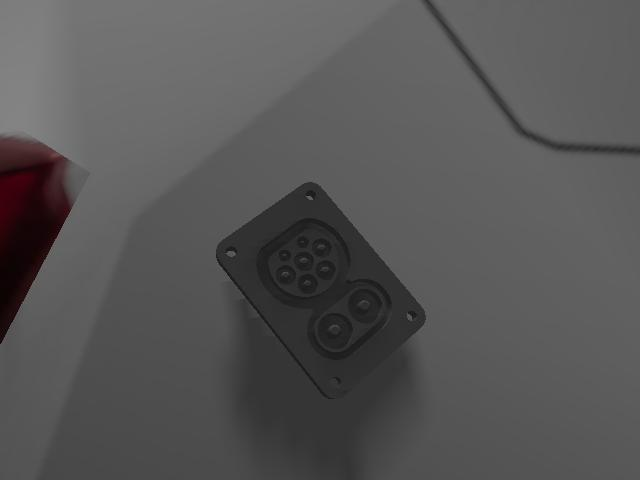EV-socket: (216, 177, 432, 400)
